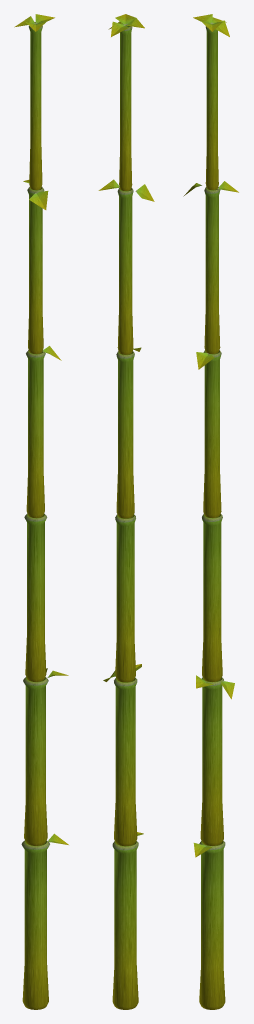
The model's file is bamboo-tree.fbx.
3 views of the same model, side by side, from view 1: azimuth 90°, elevation 25°; view 2: azimuth 150°, elevation 25°; view 3: azimuth 330°, elevation 25° (orthographic).
Visible parts, largest first — view 1: bamboo, bamboo.001, bamboo.002, bamboo.003, bamboo.004, bamboo.005, leaf.005; view 2: bamboo, bamboo.001, bamboo.002, bamboo.003, bamboo.004, bamboo.005; view 3: bamboo, bamboo.001, bamboo.002, bamboo.003, bamboo.004, bamboo.005, leaf.003.
Part boxes in pixels (x1,y1,x2,y2): bamboo: (21, 840, 49, 1009); bamboo.001: (23, 677, 48, 845); bamboo.002: (24, 513, 47, 681); bamboo.003: (26, 350, 45, 517); bamboo.004: (27, 187, 44, 353); bamboo.005: (28, 22, 42, 189); leaf.005: (29, 191, 48, 209); bamboo: (112, 841, 138, 1009); bamboo.001: (114, 677, 137, 846); bamboo.002: (115, 514, 135, 682); bamboo.003: (116, 351, 134, 518); bamboo.004: (117, 188, 133, 354); bamboo.005: (119, 23, 132, 190); bamboo: (199, 840, 225, 1009); bamboo.001: (200, 677, 223, 845); bamboo.002: (202, 514, 222, 681); bamboo.003: (203, 350, 221, 517); bamboo.004: (204, 187, 220, 353); bamboo.005: (205, 26, 218, 189); leaf.003: (196, 352, 214, 369).
Bounding box in the file's own units: 487 × 9650 × 495.
Materials: 1 (1 with a texture image).
